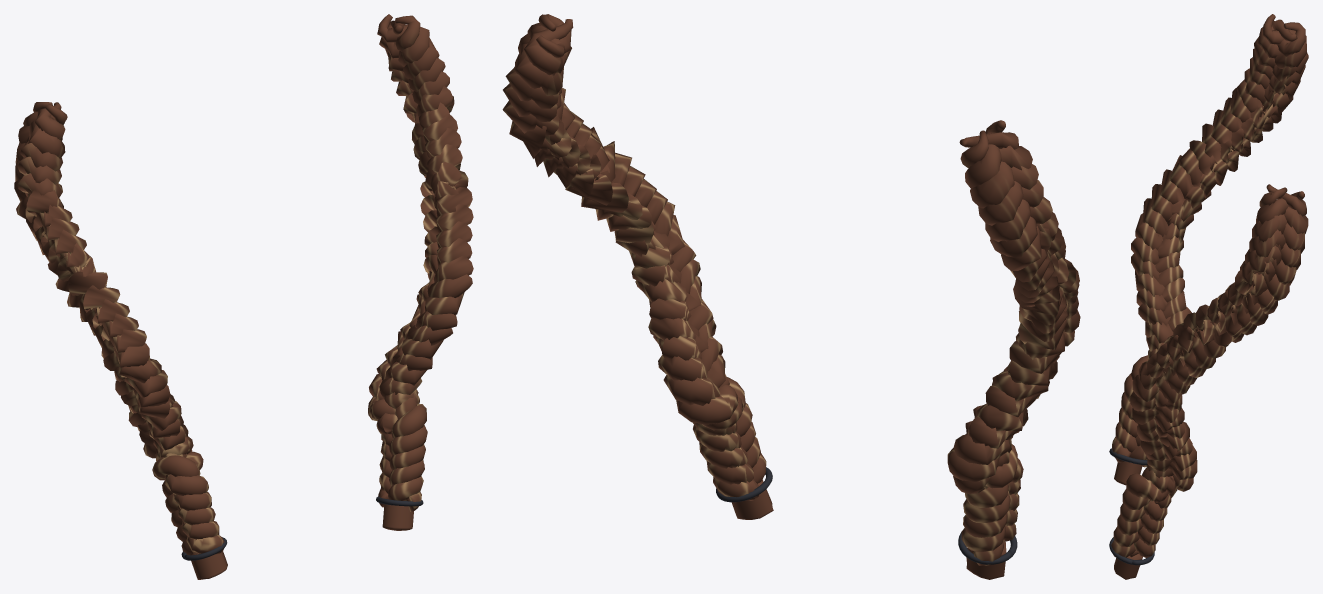
Rendered from Highlights-6ae0a500200f252-hair.glb.
The picture shows the model from 3 angles, left to right: view 1: azimuth 30°, elevation 25°; view 2: azimuth 150°, elevation 25°; view 3: azimuth 270°, elevation 25°; orthographic projection. The views are drawn at different scales.
Parts seen in each view (by area): view 1: 226 hairLengths / Hair / chestnut226; view 2: 226 hairLengths / Hair / chestnut226, 226 hairLengths / Hair / ties226; view 3: 226 hairLengths / Hair / chestnut226, 226 hairLengths / Hair / ties226.
Part boxes in pixels (x1=…): 226 hairLengths / Hair / chestnut226: x1=14, y1=14, x2=473, y2=579; 226 hairLengths / Hair / chestnut226: x1=502, y1=14, x2=1080, y2=579; 226 hairLengths / Hair / ties226: x1=716, y1=467, x2=1017, y2=564; 226 hairLengths / Hair / chestnut226: x1=1111, y1=14, x2=1308, y2=579; 226 hairLengths / Hair / ties226: x1=1109, y1=448, x2=1154, y2=565.
Size of the model in its own units: 1.09 by 1.06 by 0.444.
2 materials, 1 textured.
